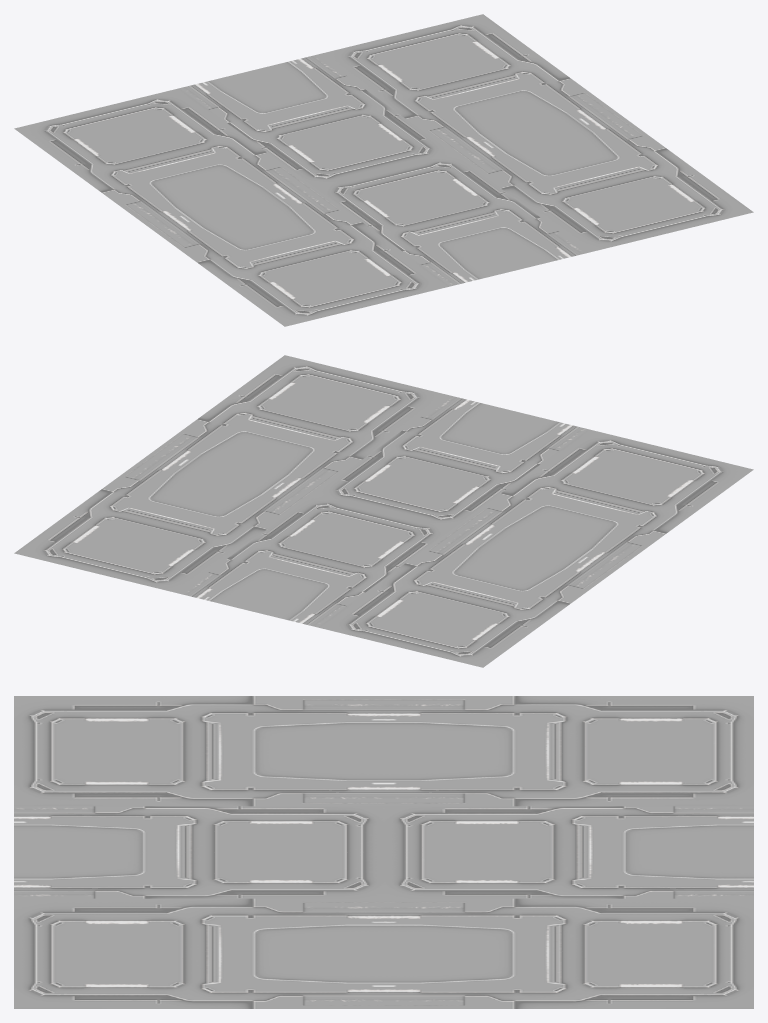
Rendered from town-roof-BjKkRsjP.glb.
3 views of the same model, one above another, from view 1: azimuth 30°, elevation 25°; view 2: azimuth 150°, elevation 25°; view 3: azimuth 270°, elevation 25° (orthographic). The views are drawn at different scales.
Visible parts, largest first — view 1: Platform_3Plates; view 2: Platform_3Plates; view 3: Platform_3Plates.
Part boxes in pixels (<box>): Platform_3Plates: <box>14,14,753,326</box>; Platform_3Plates: <box>14,355,753,667</box>; Platform_3Plates: <box>14,696,753,1008</box>.
Bounding box in the file's own units: 4 × 0 × 4.
1 material, 1 textured.
